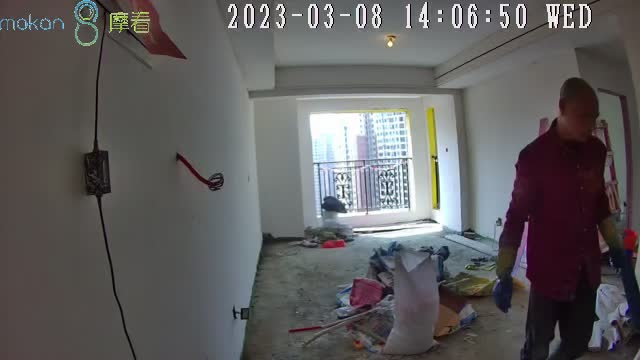people: (496, 77, 639, 360)
window: (309, 112, 412, 215)
